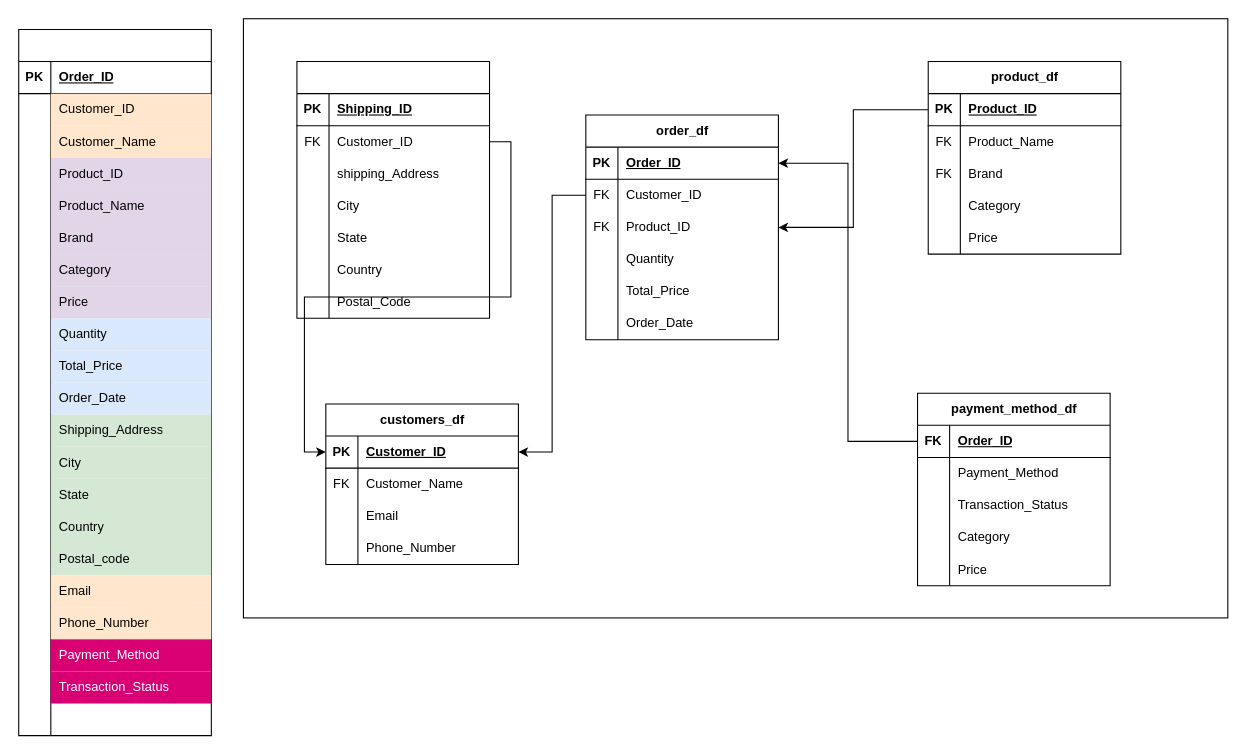
Image size: 1247x754. Some labels were removed from this diagram. Each missing label, with the box of its shape:
shipping_address_df: (296, 60, 490, 318)
yanki_df: (18, 28, 211, 736)
